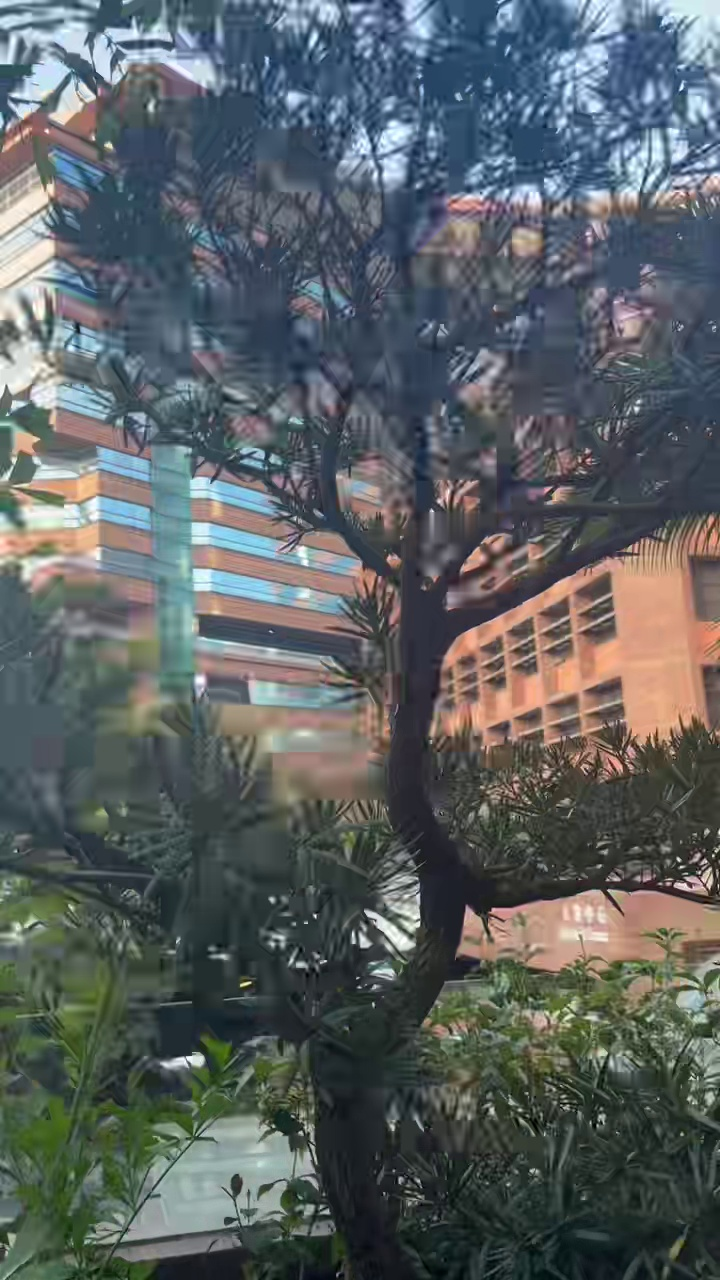Podocarpus macrophyllus: (53, 0, 719, 1279)
